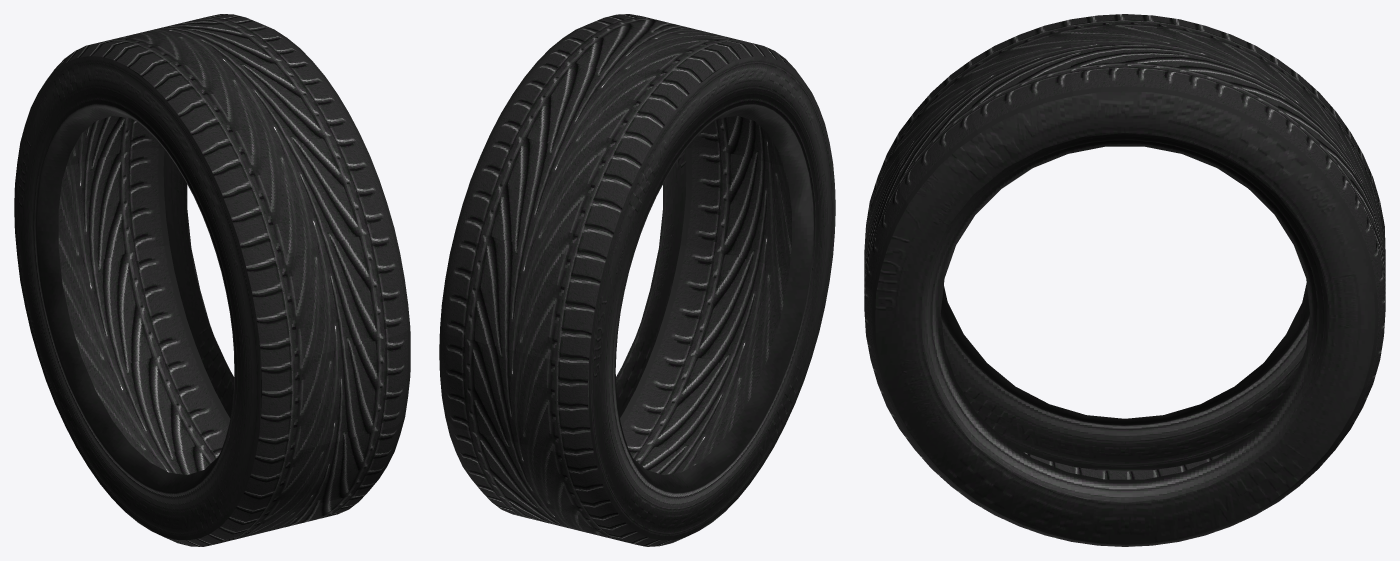
File: bmw_tire.fbx
3 renders of one model, left to right at view 1: azimuth 30°, elevation 25°; view 2: azimuth 150°, elevation 25°; view 3: azimuth 270°, elevation 25°, orthographic.
Parts seen in each view (by area): view 1: WHEEL_RF_SUB0_tire_0; view 2: WHEEL_RF_SUB0_tire_0; view 3: WHEEL_RF_SUB0_tire_0.
Part boxes in pixels (x1,y1,x2,y2): WHEEL_RF_SUB0_tire_0: [14, 14, 410, 546]; WHEEL_RF_SUB0_tire_0: [439, 14, 835, 546]; WHEEL_RF_SUB0_tire_0: [864, 14, 1385, 546].
Size of the model in its own units: 22.51 by 66.08 by 66.01.
